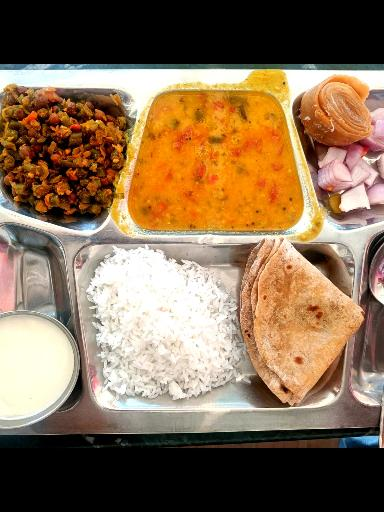Curd: (0, 305, 75, 431)
Dal: (139, 85, 294, 229)
Rice: (89, 246, 233, 395)
Roti: (244, 245, 370, 397)
Salad: (319, 154, 384, 217)
Sweet: (302, 71, 375, 148)
Vegetable: (0, 80, 123, 221)
